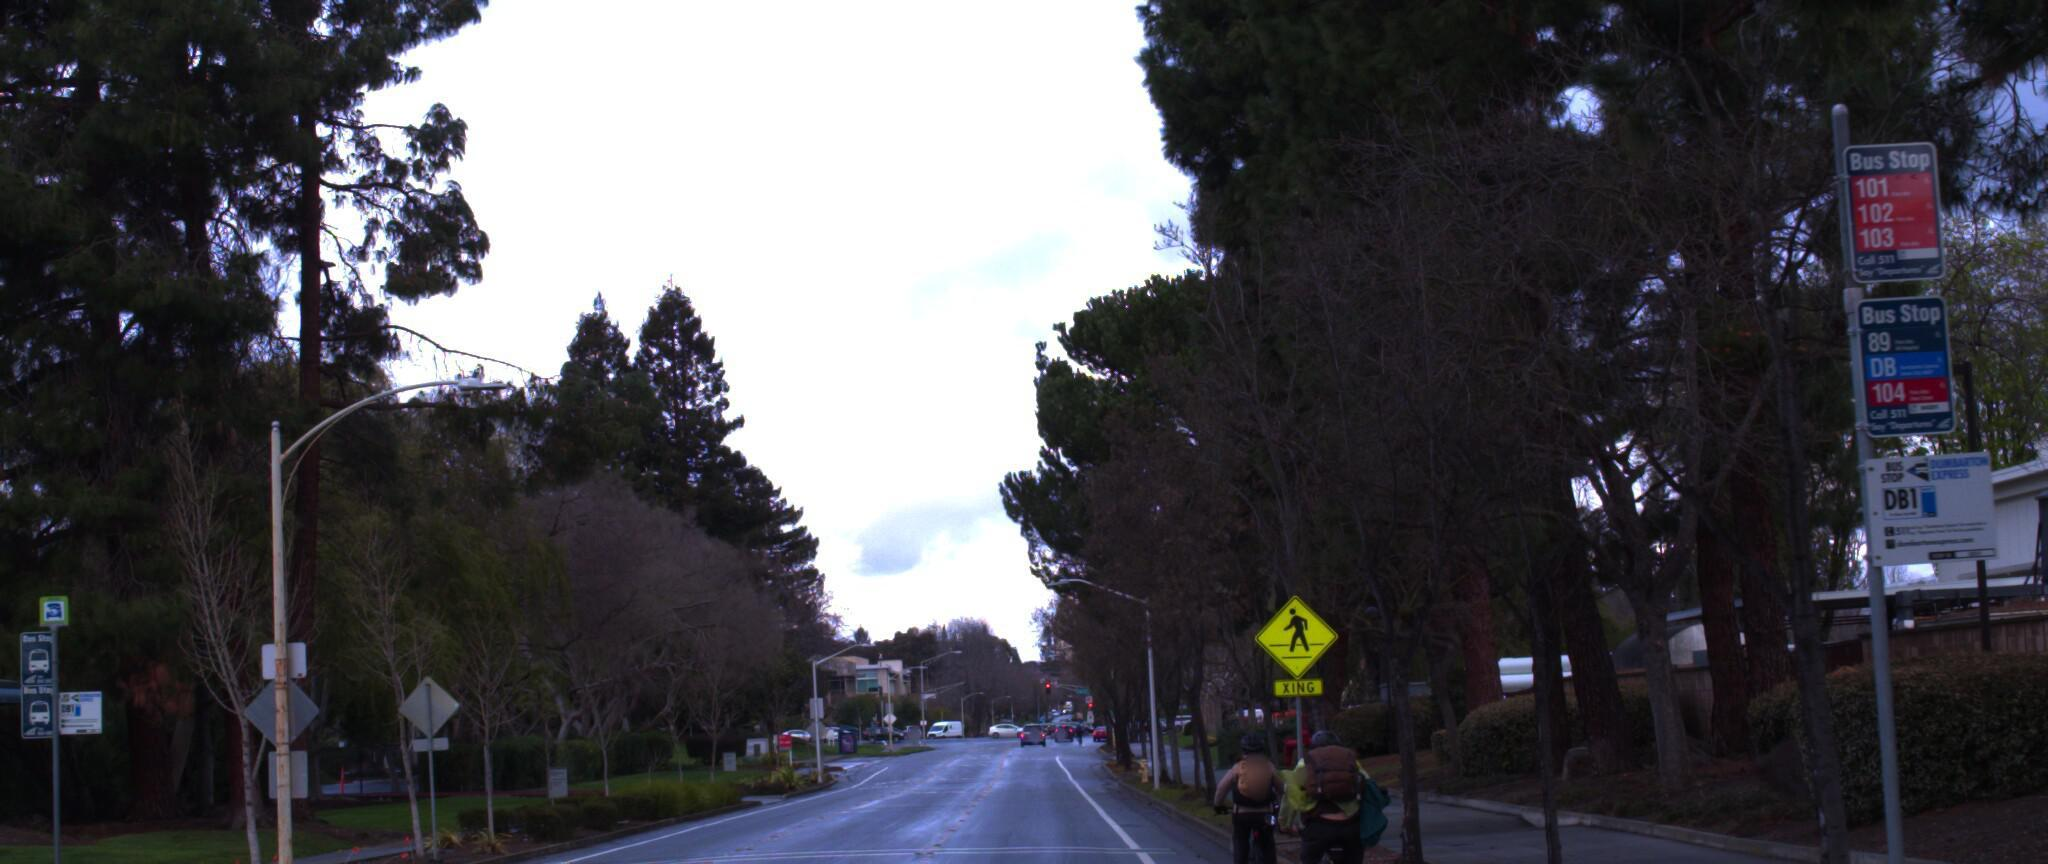bicycle: (1229, 711, 1409, 864), (1190, 718, 1305, 864)
